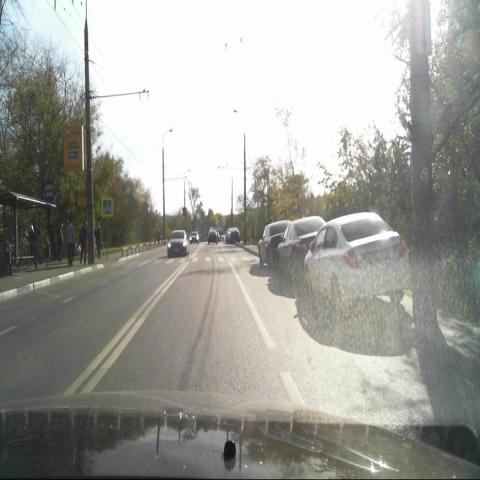8_2_3: (416, 0, 432, 53)
